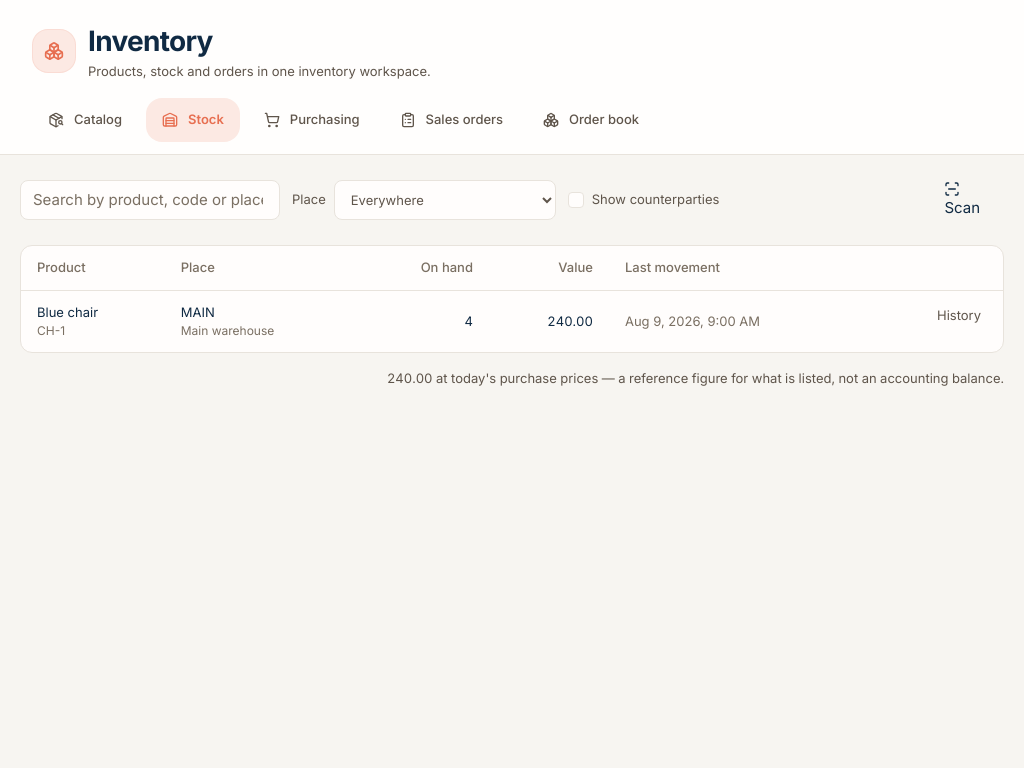
Scenario: the stock screen › a refused history read is shown in the server's words
Expected: the text "Blue chair" is shown, left=37, top=304, right=98, bottom=320
What coordinates should you click on to do the following:
click the button "History"
I would click on:
 (959, 315)
Its box is left=931, top=302, right=987, bottom=328.
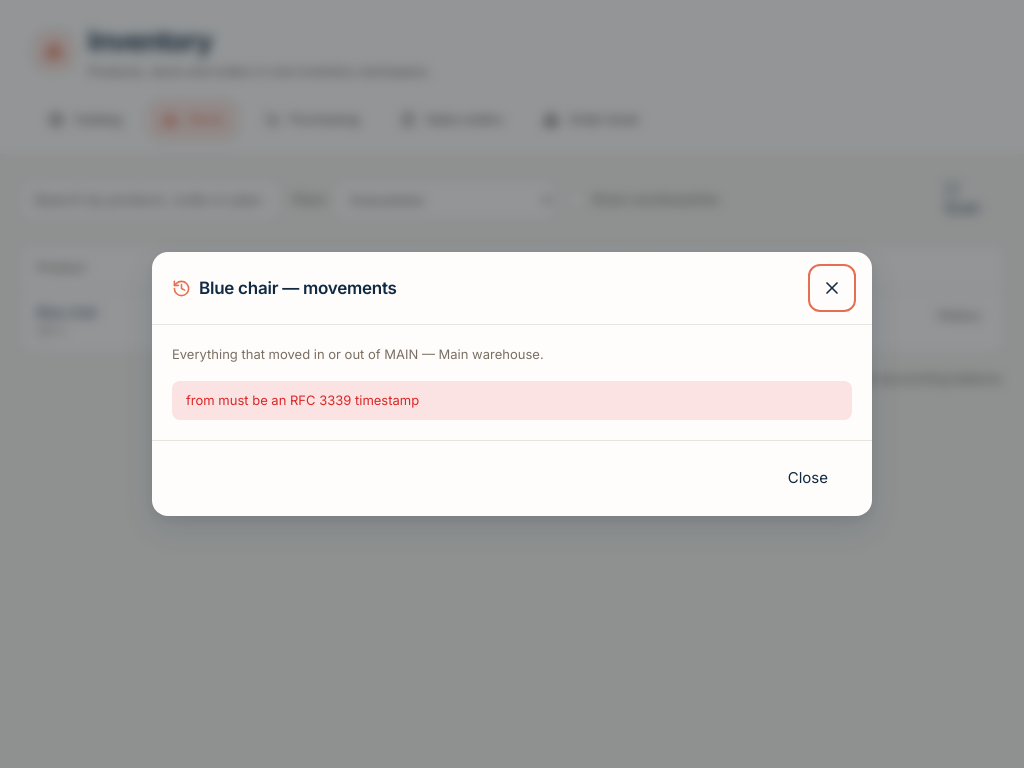
Result: the text "from must be an RFC 3339 timestamp" is shown at left=172, top=381, right=852, bottom=420
